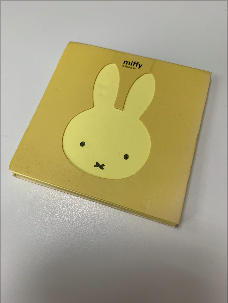object_name: (12, 38, 188, 213)
